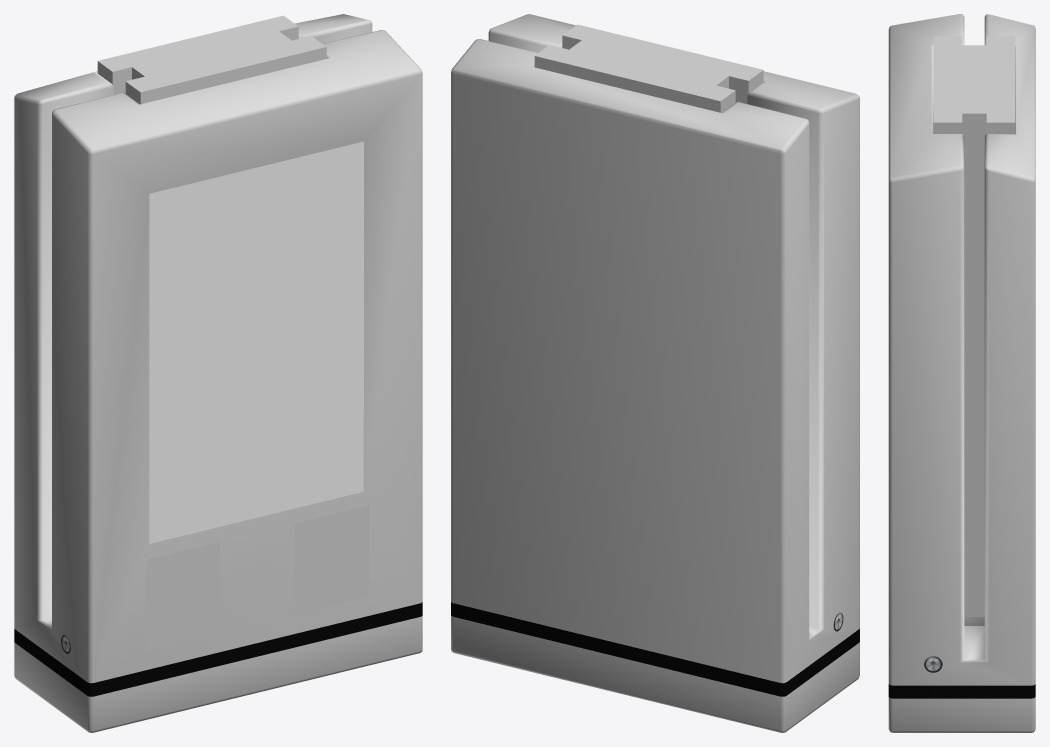
Rendered from post_blank.obj.
The picture shows the model from 3 angles, left to right: view 1: azimuth 30°, elevation 25°; view 2: azimuth 150°, elevation 25°; view 3: azimuth 270°, elevation 25°; orthographic projection. The views are drawn at different scales.
Parts seen in each view (by area): view 1: post_blank; view 2: post_blank; view 3: post_blank.
Boxes of the visible parts, x1=… form: post_blank: x1=14, y1=14, x2=422, y2=732; post_blank: x1=451, y1=14, x2=859, y2=732; post_blank: x1=888, y1=14, x2=1035, y2=732.
Bounding box in the file's own units: 0.902 × 1.56 × 0.361.
4 materials, 2 textured.
